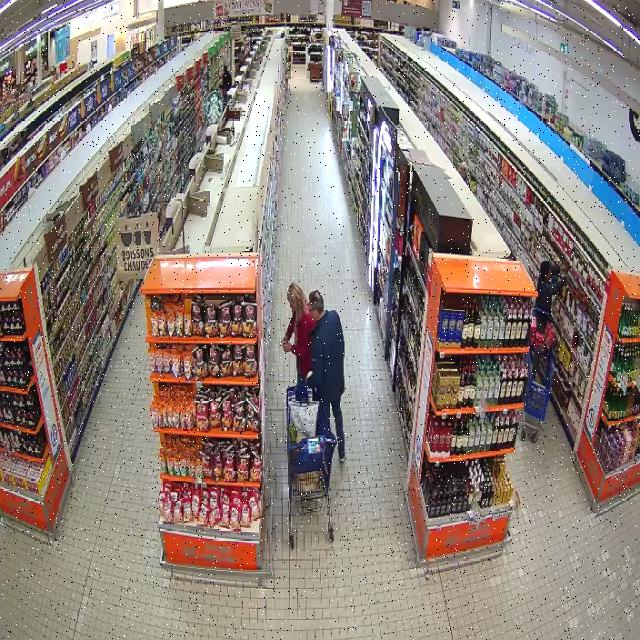hands: (282, 341, 291, 352), (281, 335, 288, 343)
person: (305, 290, 345, 461), (281, 282, 315, 383)
